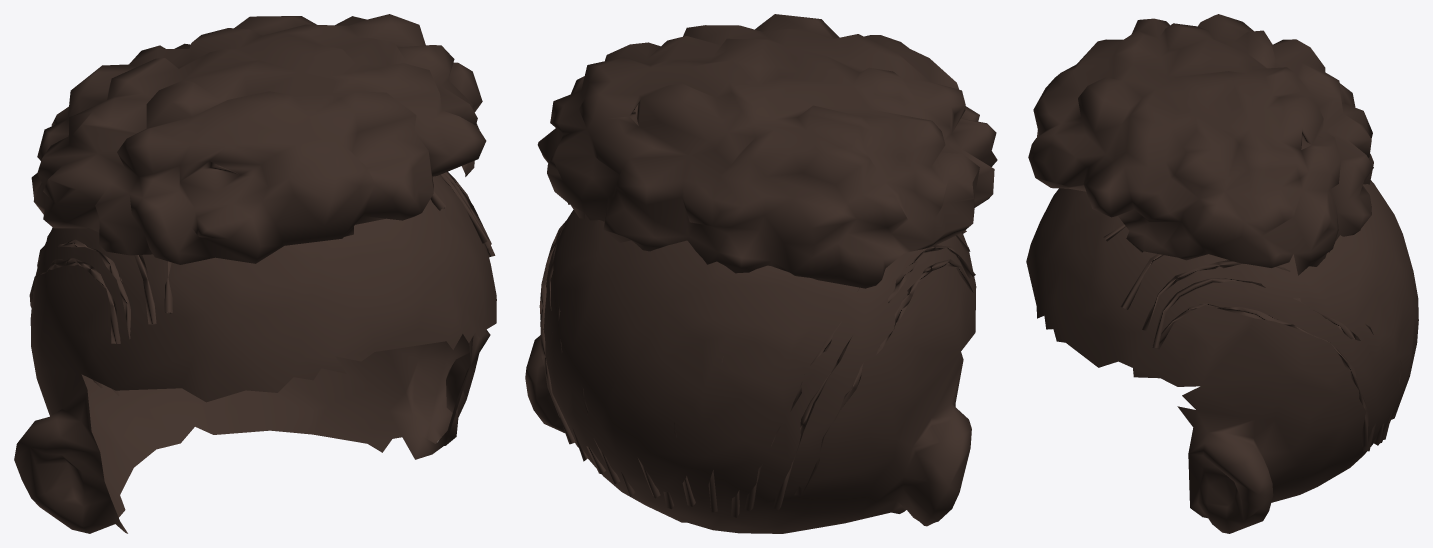
File: curls.glb
3 renders of one model, left to right at view 1: azimuth 30°, elevation 25°; view 2: azimuth 150°, elevation 25°; view 3: azimuth 270°, elevation 25°, orthographic. The views are drawn at different scales.
Visible parts, largest first — view 1: HairScalp, Hair, HairPulledRootStrands; view 2: HairScalp, Hair, HairPulledRootStrands; view 3: HairScalp, Hair, HairPulledRootStrands.
Part boxes in pixels (<box>): HairScalp: <box>14,165,496,533</box>; Hair: <box>31,14,486,264</box>; HairPulledRootStrands: <box>29,171,495,395</box>; HairScalp: <box>525,210,976,533</box>; Hair: <box>537,14,997,288</box>; HairPulledRootStrands: <box>539,221,975,517</box>; HairScalp: <box>1026,140,1418,533</box>; Hair: <box>1028,14,1373,275</box>; HairPulledRootStrands: <box>1103,224,1402,451</box>.
Bounding box in the file's own units: 0.5102 × 0.4788 × 0.4332.
